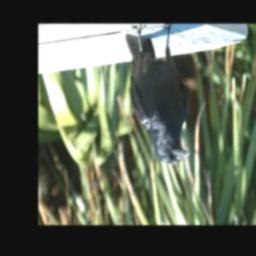Crow: (126, 24, 190, 165)
